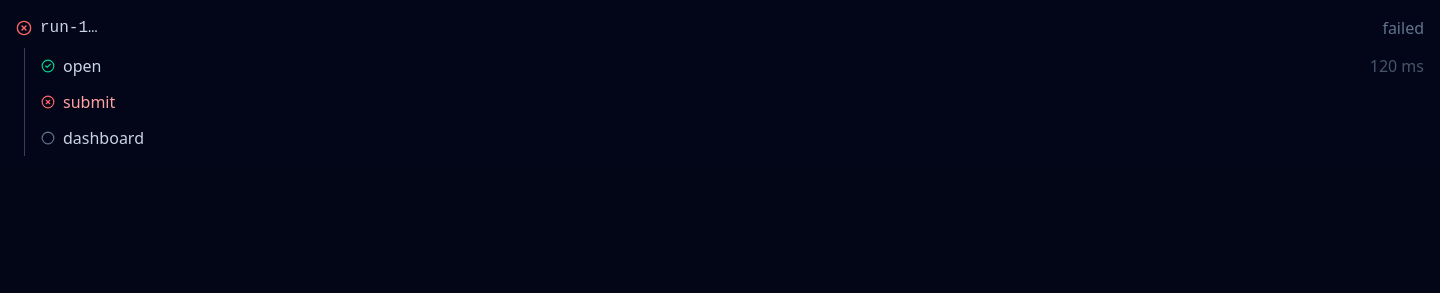
it: shows normalized run steps, exact failure and local screenshots without cloud replay
Expected: the text "failed" is shown, [1382, 16, 1424, 40]
Expected: the text "dashboard" is shown, [63, 126, 144, 150]
Click the button "submit": (89, 102) [33, 84, 1432, 120]
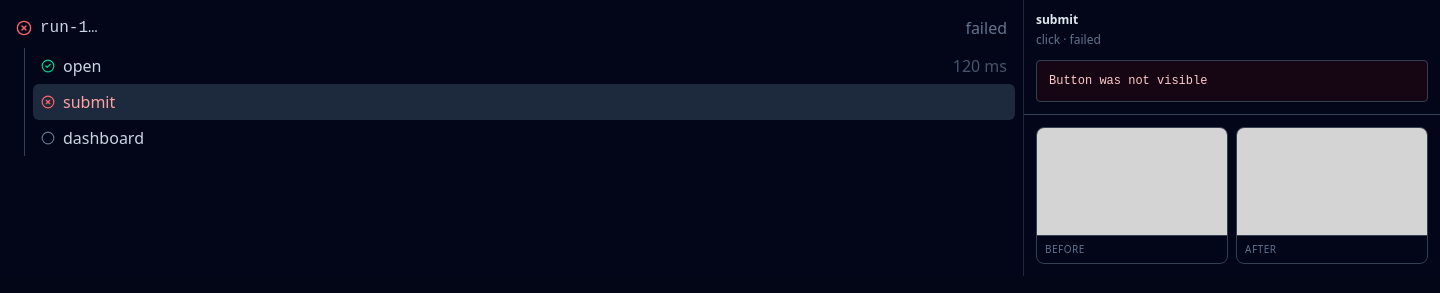
Expected: the text "Button was not visible" is shown, [1036, 60, 1428, 102]
